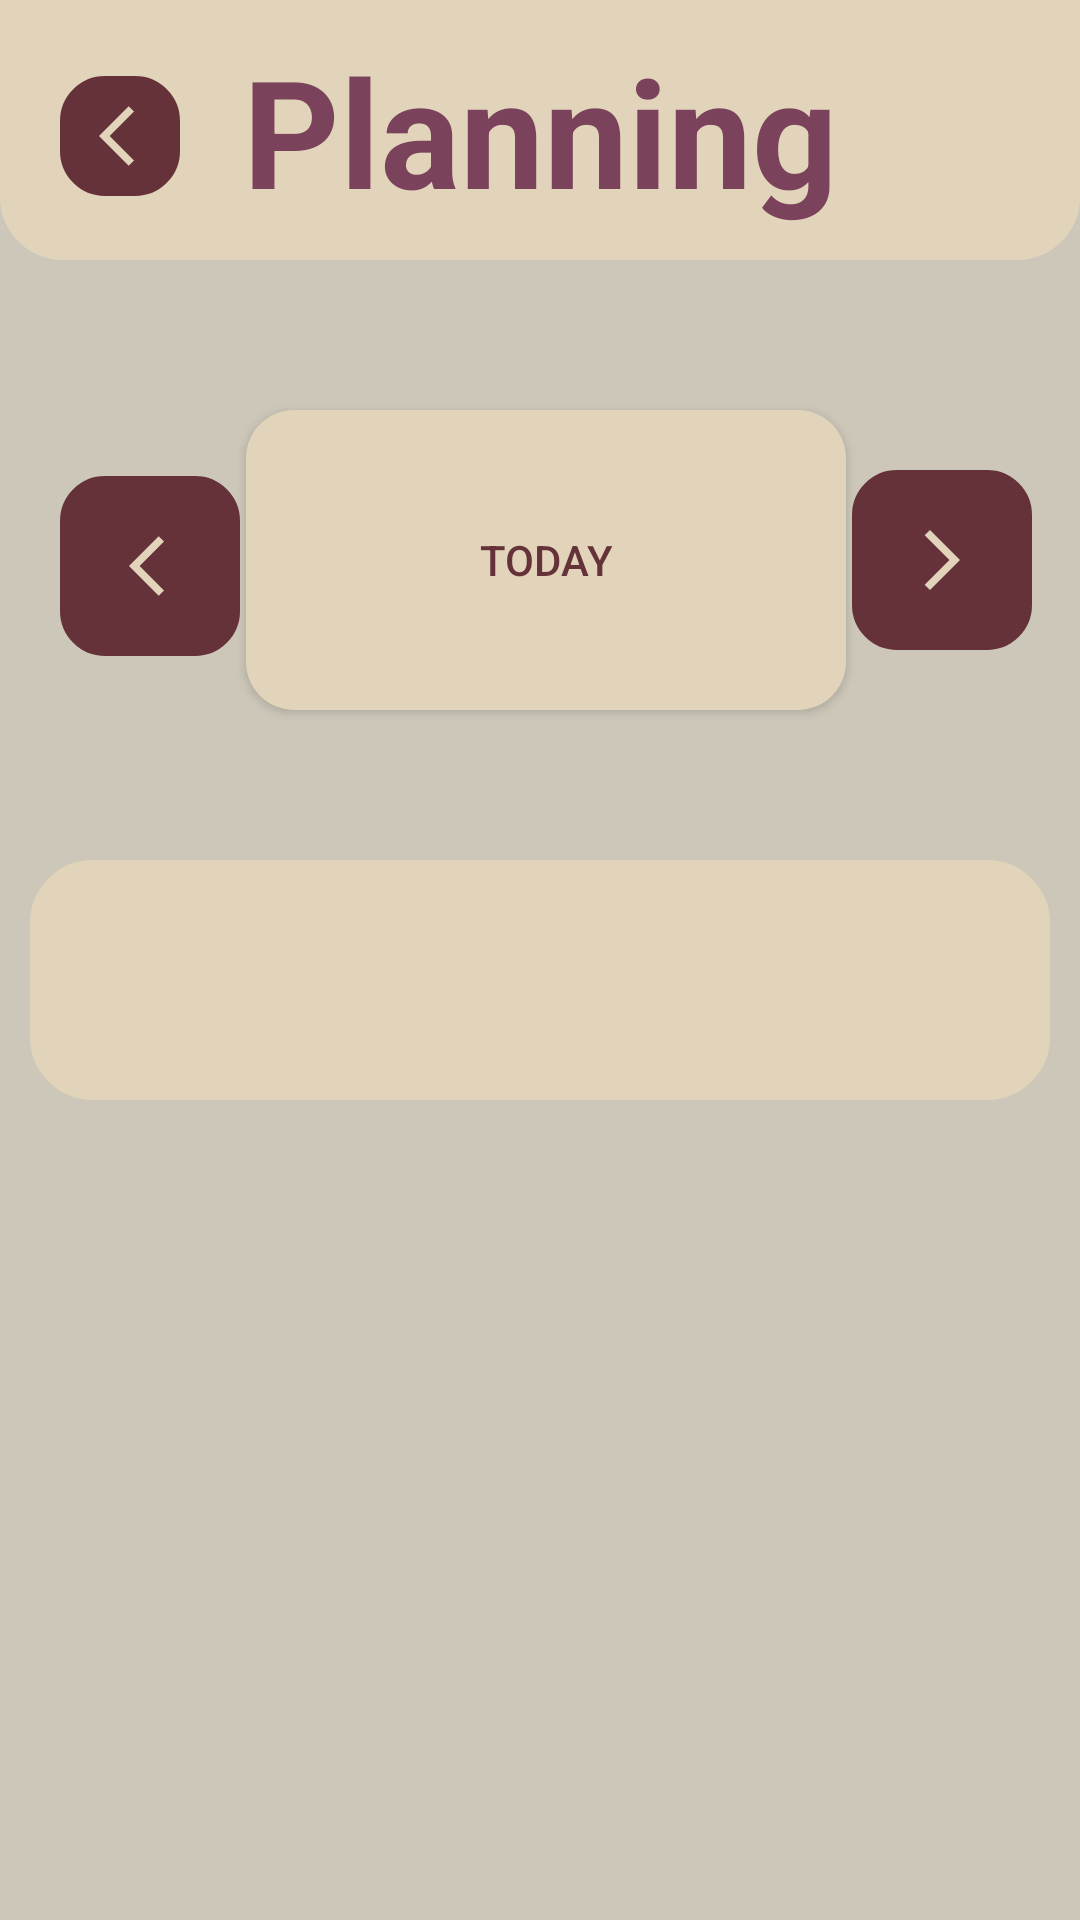

Icons on this 1080×1920 Android screen, each with the point to tap as (x=x, y=y):
back: (x=120, y=136), (x=150, y=566)
forward: (x=942, y=560)
